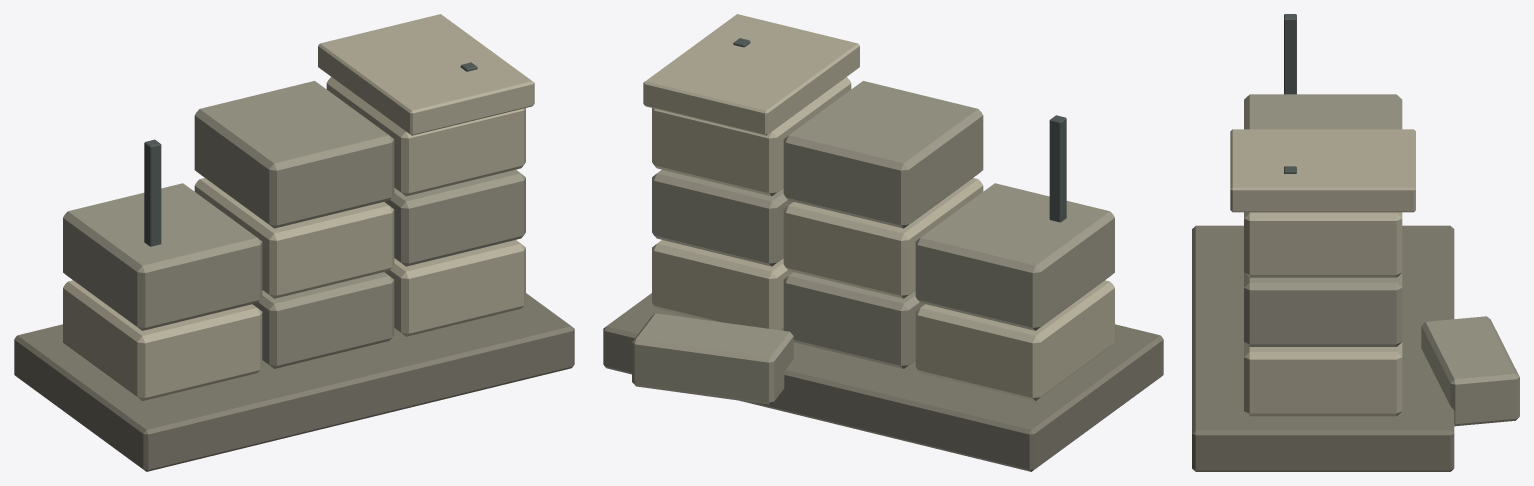
File: warm_ruin.glb
The picture shows the model from 3 angles, left to right: view 1: azimuth 30°, elevation 25°; view 2: azimuth 150°, elevation 25°; view 3: azimuth 270°, elevation 25°; orthographic projection.
Visible parts, largest first — view 1: ruin_sample_stone, ruin_sample_stone_light, ruin_sample_stone_dark, ruin_sample_iron; view 2: ruin_sample_stone, ruin_sample_stone_light, ruin_sample_stone_dark, ruin_sample_iron; view 3: ruin_sample_stone_light, ruin_sample_stone_dark, ruin_sample_stone, ruin_sample_iron.
Part boxes in pixels (box(x1,y1,x2,y2)): ruin_sample_stone: box(63, 81, 525, 368); ruin_sample_stone_light: box(63, 14, 534, 400); ruin_sample_stone_dark: box(14, 293, 574, 471); ruin_sample_iron: box(144, 62, 477, 246); ruin_sample_stone: box(632, 81, 1114, 404); ruin_sample_stone_light: box(643, 14, 1114, 400); ruin_sample_stone_dark: box(603, 293, 1163, 471); ruin_sample_iron: box(733, 38, 1066, 222); ruin_sample_stone_light: box(1230, 129, 1415, 416); ruin_sample_stone_dark: box(1192, 225, 1454, 471); ruin_sample_stone: box(1244, 94, 1519, 426); ruin_sample_iron: box(1284, 14, 1296, 173).
Bounding box in the file's own units: 0.9 × 0.56 × 0.6001.
